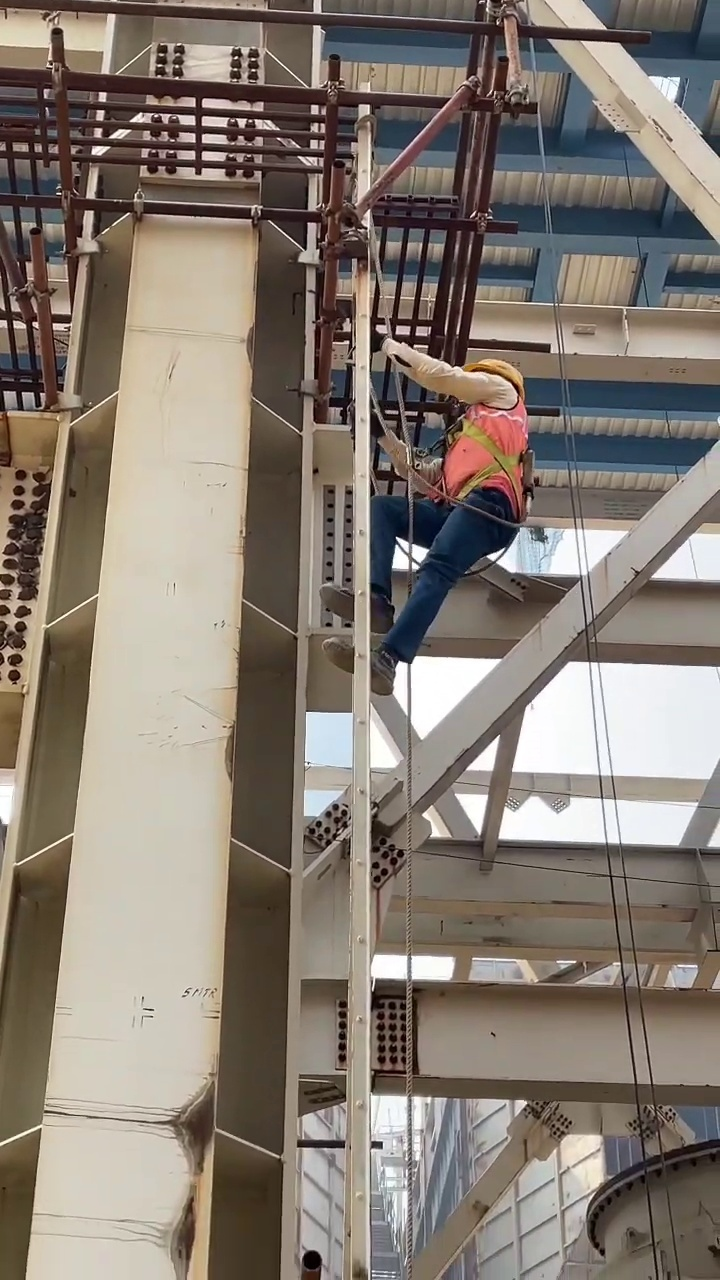Helmet: (467, 356, 525, 391)
Person: (318, 356, 536, 697)
Safety_Harness: (432, 393, 535, 527)
Safety_shoes: (320, 630, 398, 699), (317, 582, 397, 631)
